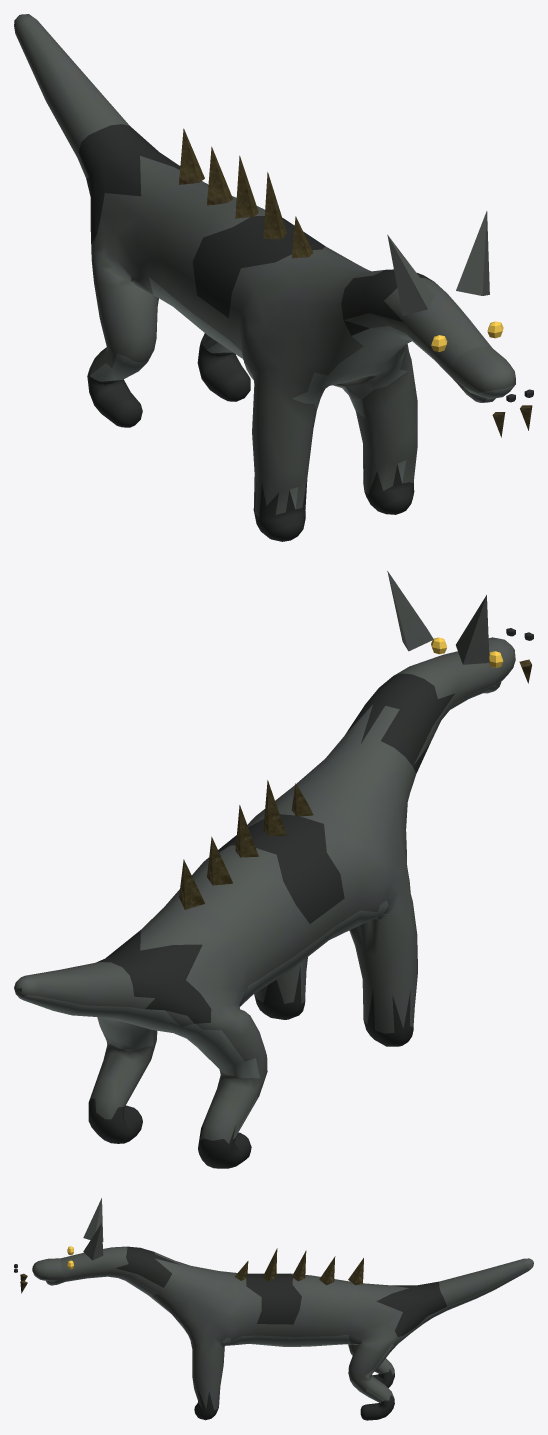
File: mon_quad_01.glb
The picture shows the model from 3 angles, top to bottom: view 1: azimuth 30°, elevation 25°; view 2: azimuth 150°, elevation 25°; view 3: azimuth 270°, elevation 25°; orthographic projection. The views are drawn at different scales.
Parts seen in each view (by area): view 1: mon_quad_01; view 2: mon_quad_01; view 3: mon_quad_01.
Part boxes in pixels (<box>): mon_quad_01: <box>14,14,533,541</box>; mon_quad_01: <box>14,571,533,1168</box>; mon_quad_01: <box>14,1198,533,1420</box>.
Size of the model in its own units: 0.3244 by 0.7447 by 1.79.
Materials: 5 (4 with a texture image).
